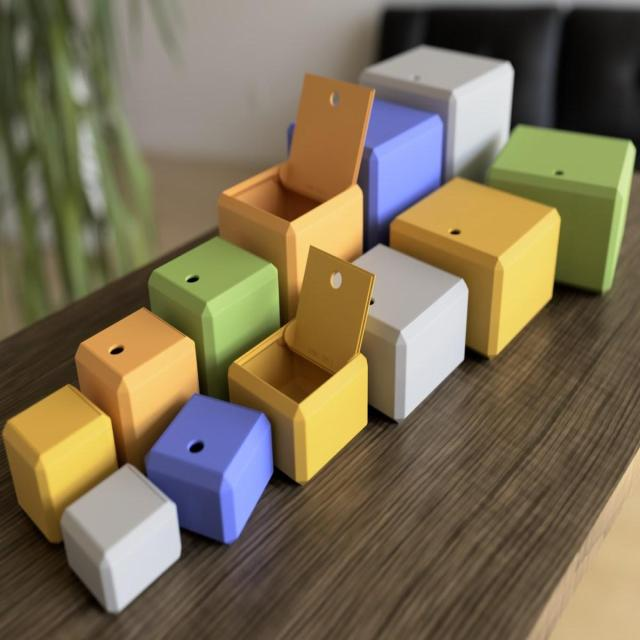Without deffect: (1, 2, 640, 626)
